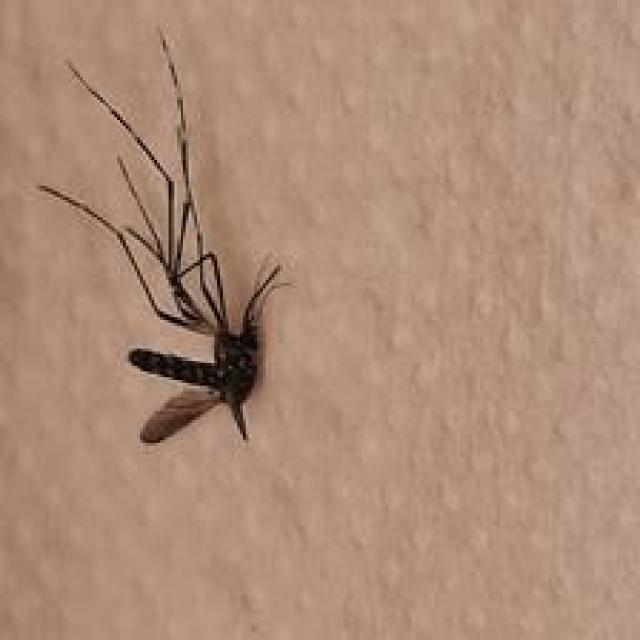Aedes albopictus: (37, 23, 294, 446)
